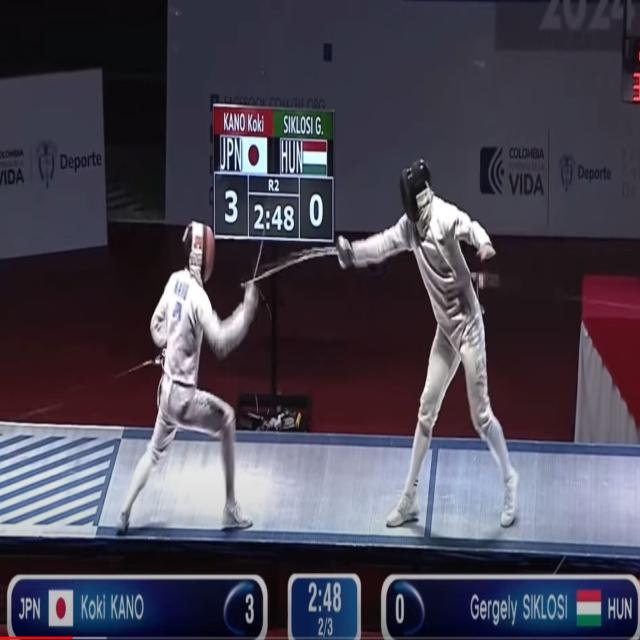fencer: (338, 139, 518, 548), (128, 227, 258, 539)
overlayLeft: (6, 579, 194, 638)
overlayRight: (444, 571, 640, 640)
scoreLeft: (197, 584, 260, 638)
scoreRight: (388, 589, 444, 635)
